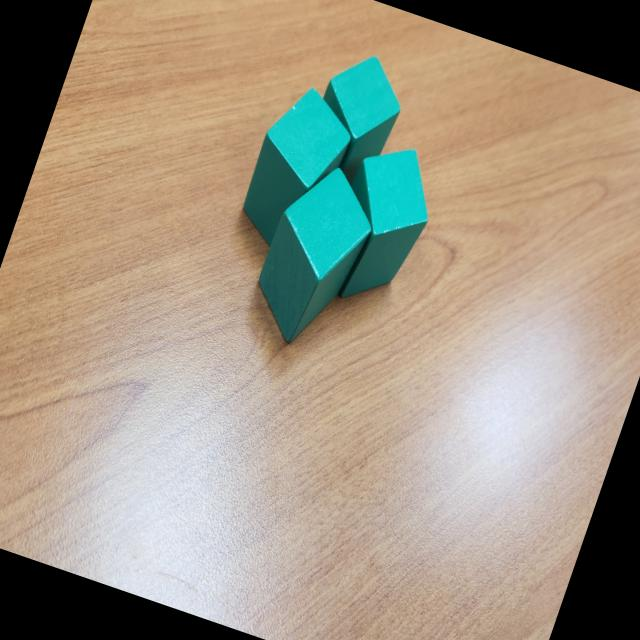green: (240, 153, 388, 357), (305, 132, 447, 314), (230, 76, 364, 261), (298, 43, 416, 194)
